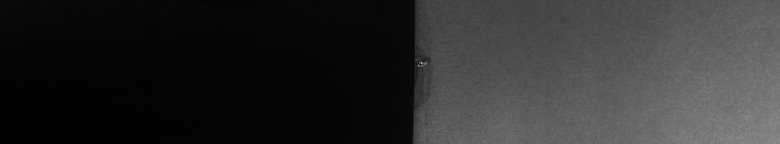hb: (424, 53, 436, 103)
